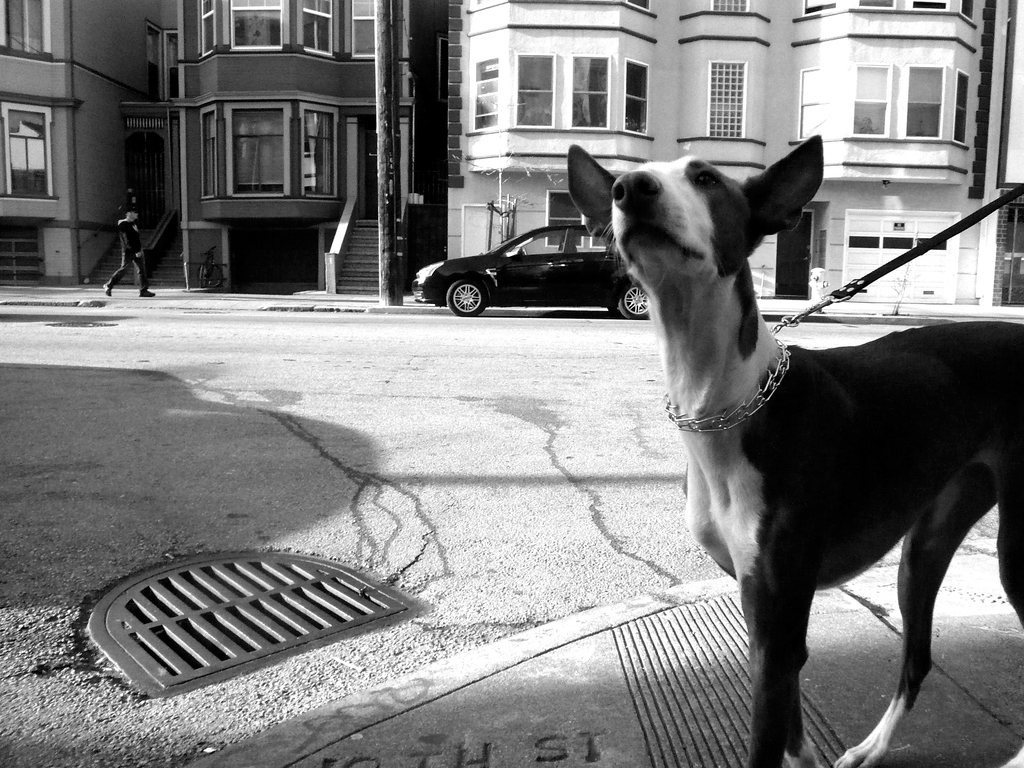Car: (408, 222, 653, 320)
